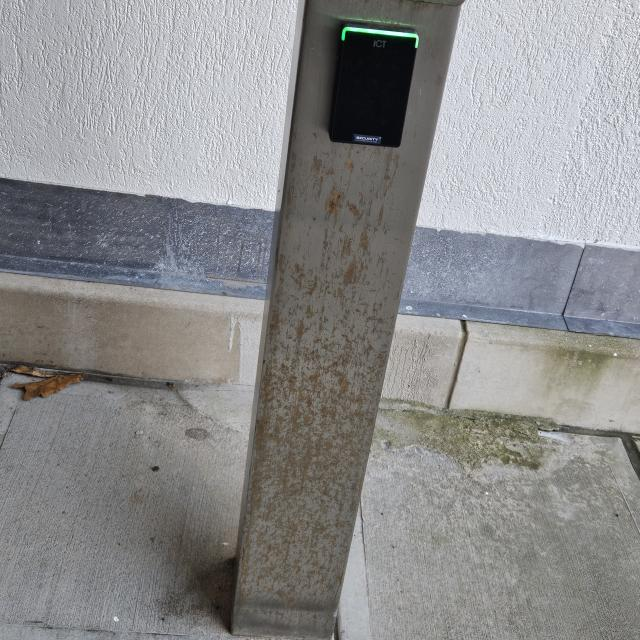Uniform Corrosion: (233, 143, 431, 640)
